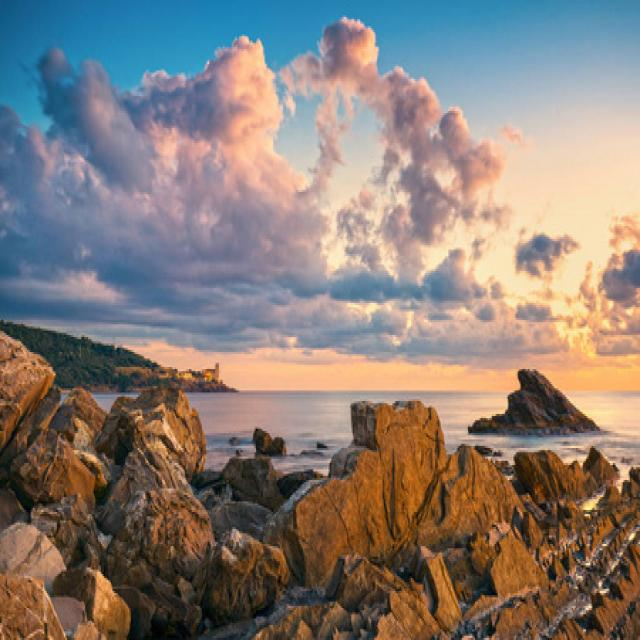island: (0, 310, 228, 398)
